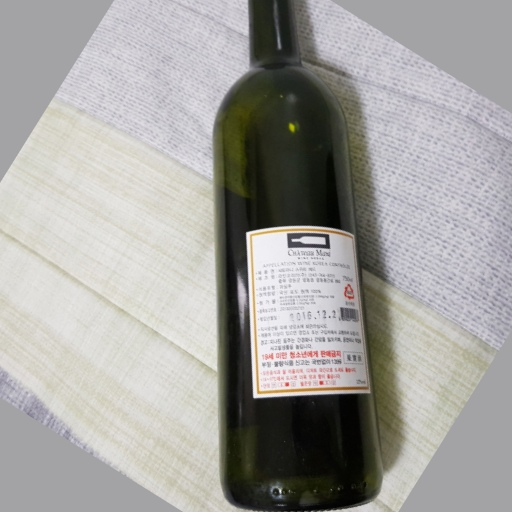Glass_2: (208, 1, 390, 512)
